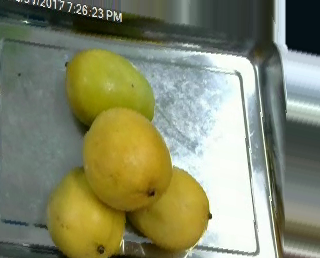Mango: (83, 108, 173, 211), (122, 165, 212, 250), (67, 50, 155, 132), (47, 168, 126, 257)
